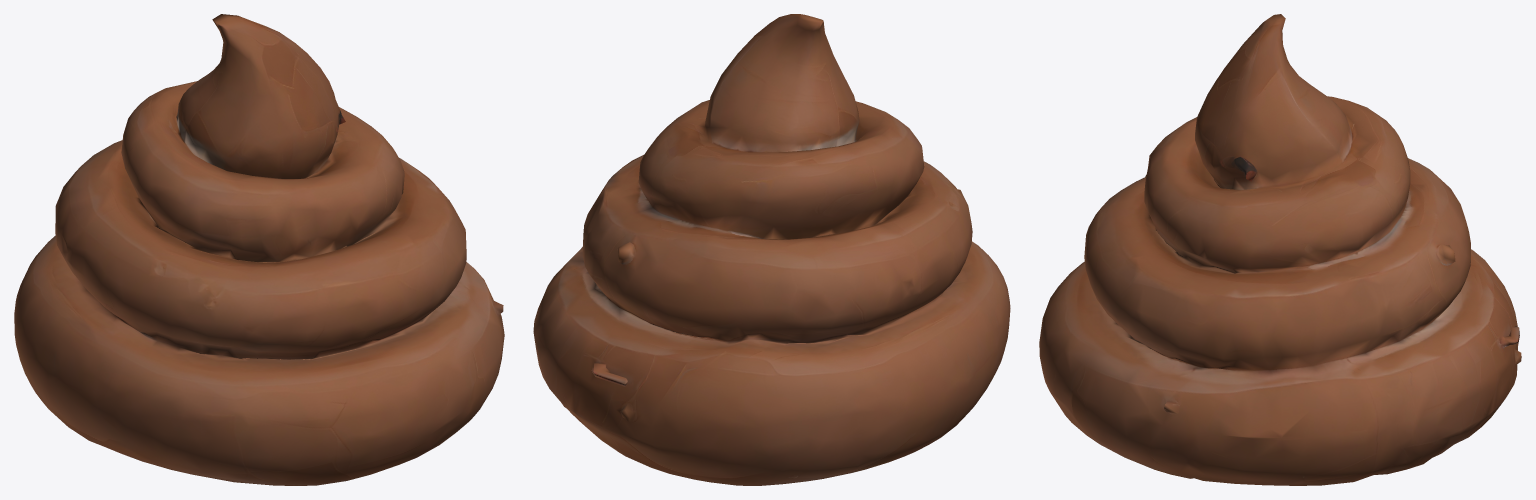
Rendered from mess-pile.glb.
3 views of the same model, side by side, from view 1: azimuth 30°, elevation 25°; view 2: azimuth 150°, elevation 25°; view 3: azimuth 270°, elevation 25° (orthographic). The views are drawn at different scales.
Visible parts, largest first — view 1: tripo_node_455e1d3d-d105-4849-99d5-a6410219e6d6; view 2: tripo_node_455e1d3d-d105-4849-99d5-a6410219e6d6; view 3: tripo_node_455e1d3d-d105-4849-99d5-a6410219e6d6.
Boxes of the visible parts, <box> form: tripo_node_455e1d3d-d105-4849-99d5-a6410219e6d6: <box>14,14,504,485</box>; tripo_node_455e1d3d-d105-4849-99d5-a6410219e6d6: <box>533,14,1010,485</box>; tripo_node_455e1d3d-d105-4849-99d5-a6410219e6d6: <box>1039,14,1521,485</box>.
Size of the model in its own units: 0.9438 by 0.911 by 0.9991.
1 material, 1 textured.
